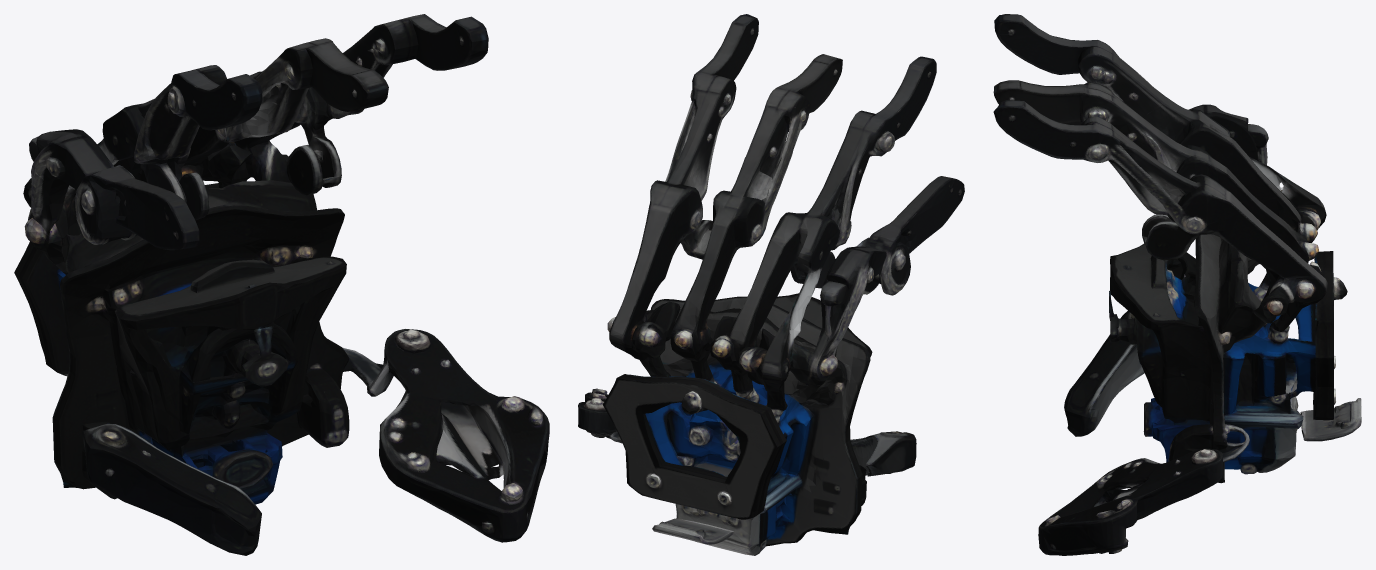
Rendered from hand_blender.glb.
The picture shows the model from 3 angles, left to right: view 1: azimuth 30°, elevation 25°; view 2: azimuth 150°, elevation 25°; view 3: azimuth 270°, elevation 25°; orthographic projection. The views are drawn at different scales.
Visible parts, largest first — view 1: MAIN, pouce, orriculaire, index, annualaire, majeur; view 2: MAIN, annualaire, index, majeur, orriculaire, pouce; view 3: MAIN, index, annualaire, pouce, majeur, orriculaire.
Part boxes in pixels (bbox=[...]): MAIN: bbox=[14, 86, 449, 555]; pouce: bbox=[342, 329, 549, 542]; orriculaire: bbox=[28, 129, 199, 271]; index: bbox=[201, 14, 488, 195]; annualaire: bbox=[23, 65, 262, 234]; majeur: bbox=[183, 38, 388, 177]; MAIN: bbox=[588, 72, 930, 555]; annualaire: bbox=[710, 56, 936, 416]; index: bbox=[607, 14, 758, 376]; majeur: bbox=[670, 54, 842, 383]; orriculaire: bbox=[789, 176, 964, 402]; pouce: bbox=[578, 388, 622, 443]; MAIN: bbox=[1064, 214, 1361, 483]; index: bbox=[993, 100, 1327, 339]; annualaire: bbox=[994, 14, 1326, 242]; pouce: bbox=[1038, 440, 1249, 555]; majeur: bbox=[993, 80, 1318, 326]; orriculaire: bbox=[1065, 104, 1268, 269].
Bounding box in the file's own units: 0.842 × 1 × 0.7861.
1 material, 1 textured.
